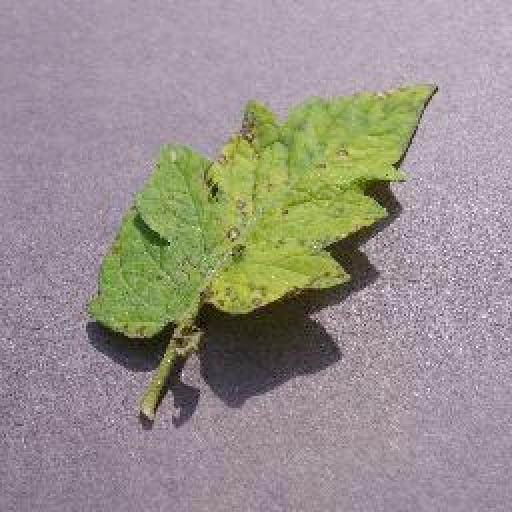disease_tomato: (92, 81, 436, 339)
